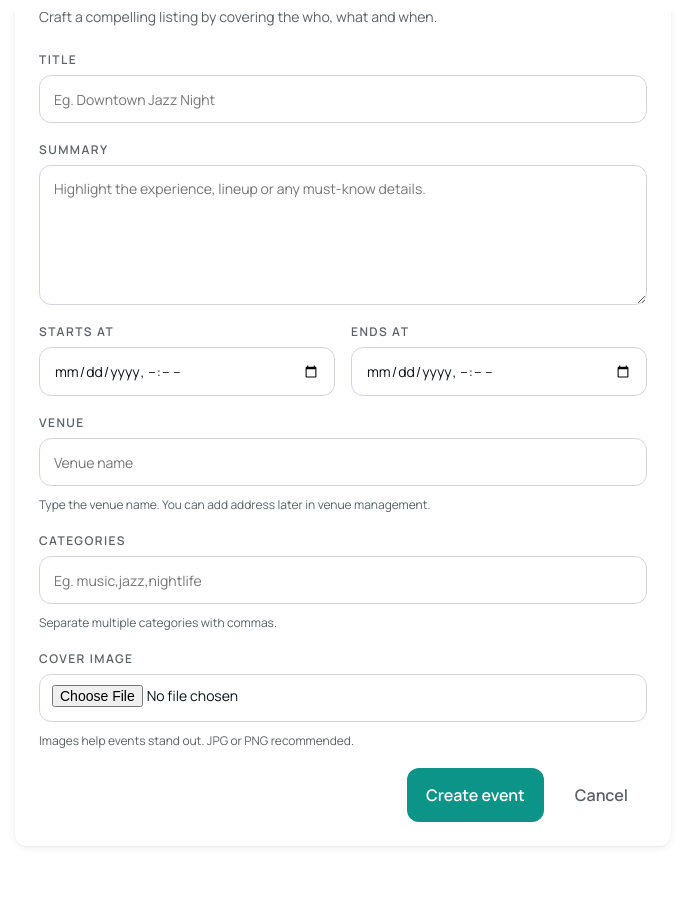
Test: routes/admin/EventNew › shows errors when event creation fails
(page scrolled)
Step 1. Type "Bad Event" into the field labelled "Title" → (343, 99), box x1=39 y1=75 x2=647 y2=123
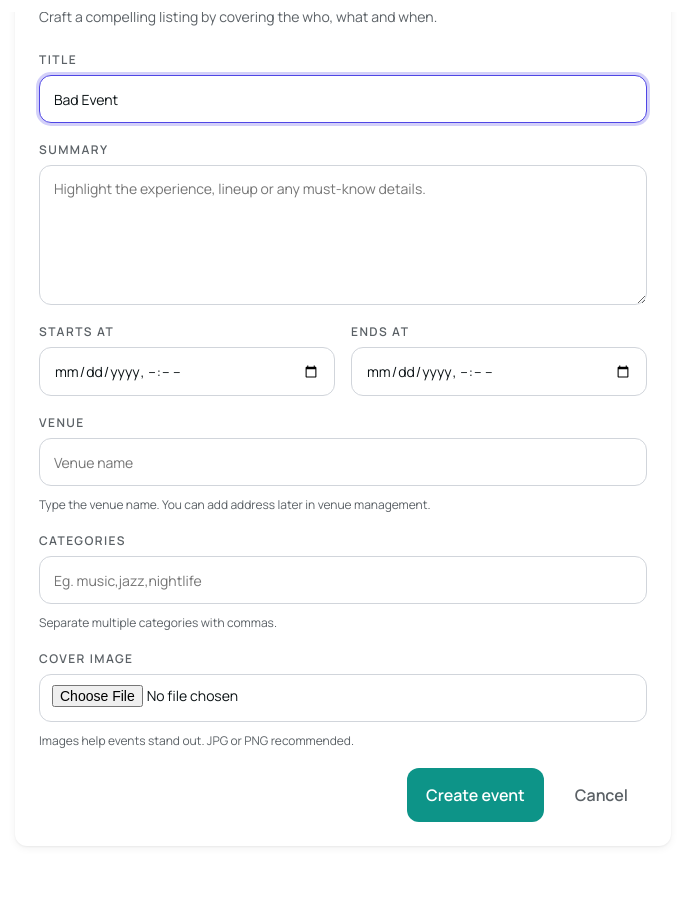
Step 2. Type "2024-01-01T10:00" into the field labelled "Starts at" → (187, 372), box x1=39 y1=347 x2=335 y2=396
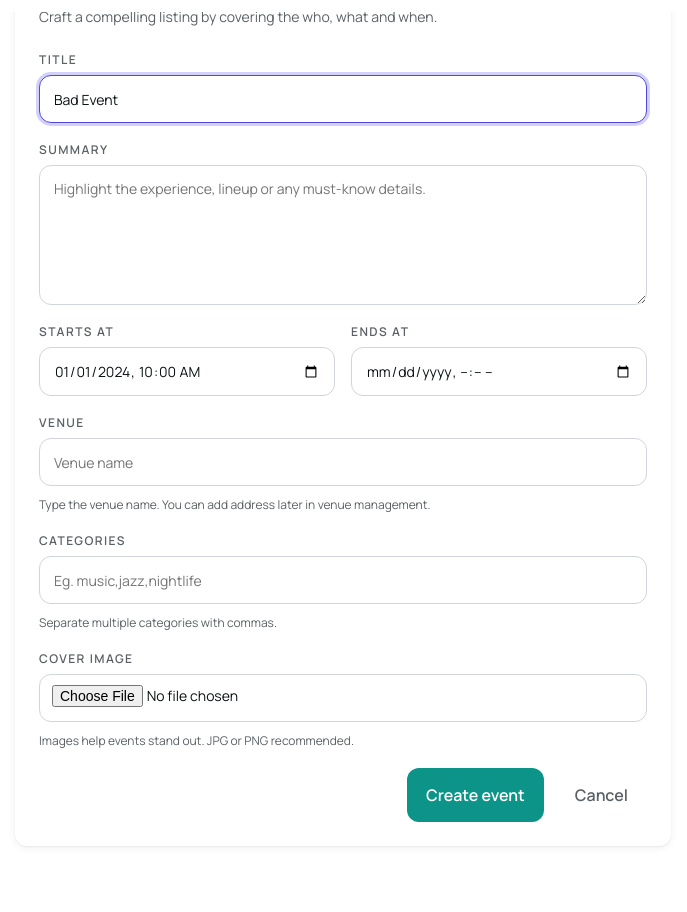
Step 3. Type "2024-01-01T11:00" into the field labelled "Ends at" → (499, 372), box x1=351 y1=347 x2=647 y2=396
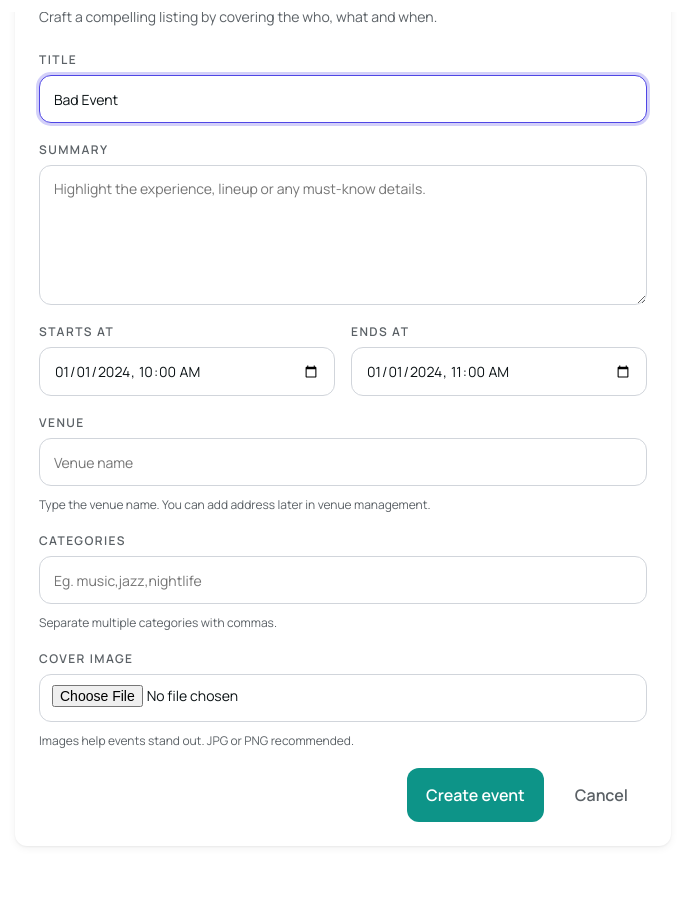
Step 4. Type "Venue" into the field with placeholder "venue name" → (343, 462), box x1=39 y1=438 x2=647 y2=486
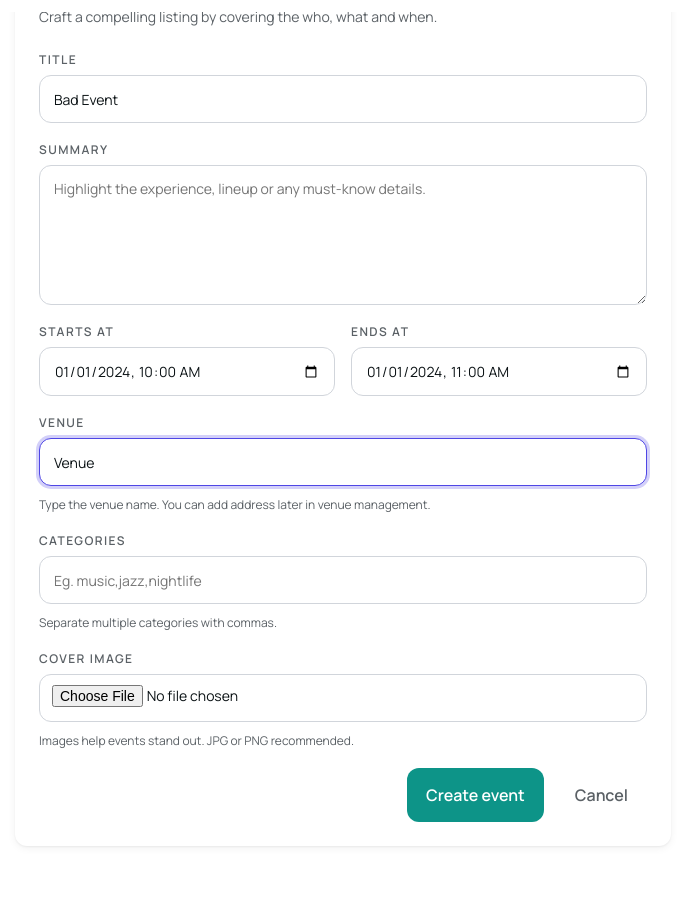
Step 5. Click the button "Create event" → (475, 795), box x1=407 y1=768 x2=544 y2=822
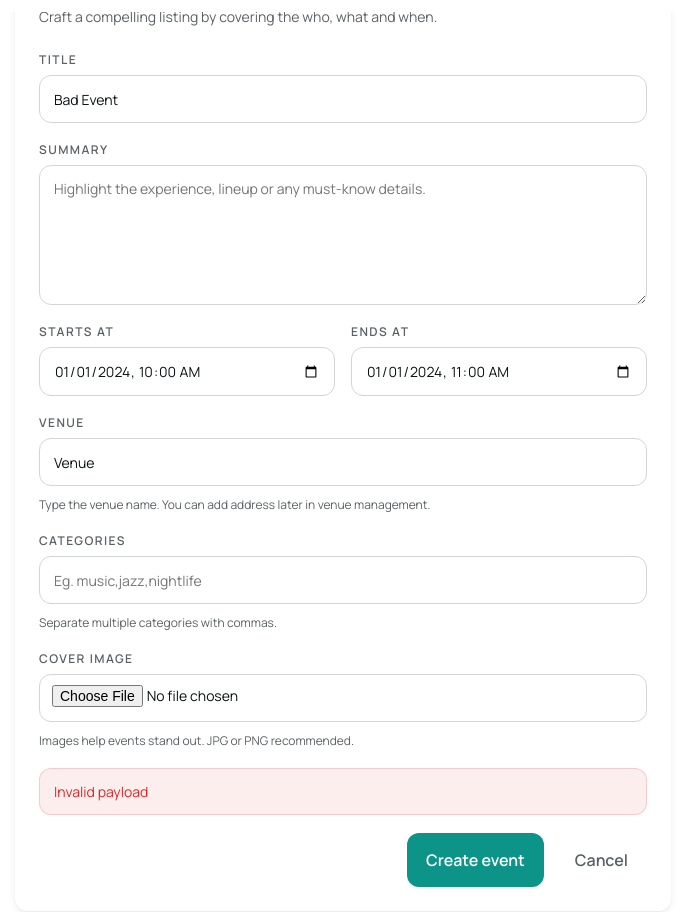
Now the text "Invalid payload" is shown, box x1=39 y1=768 x2=647 y2=815
